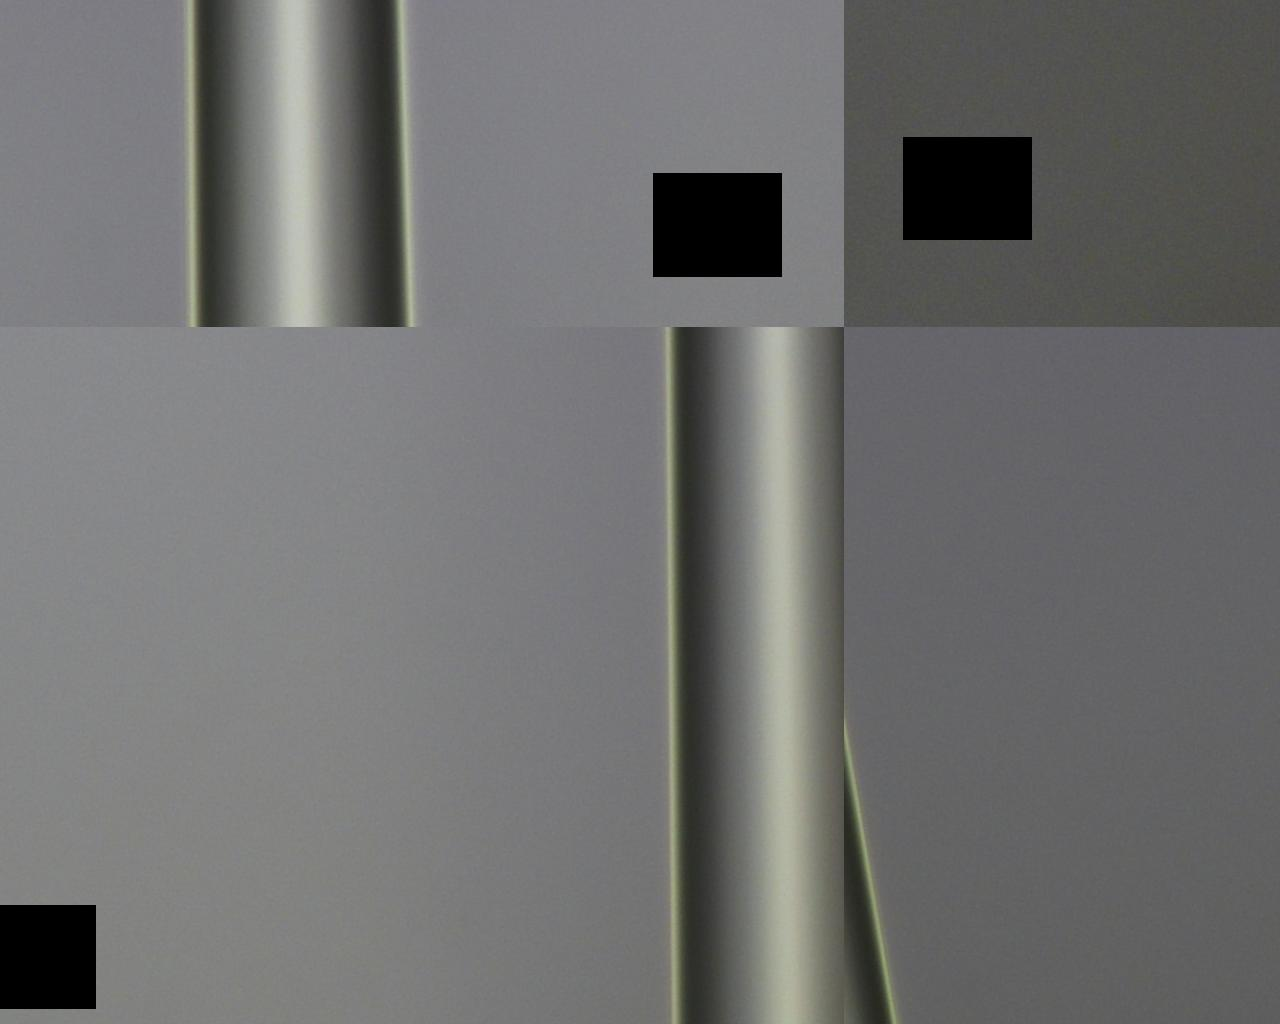fiber: (128, 665, 1152, 985)
